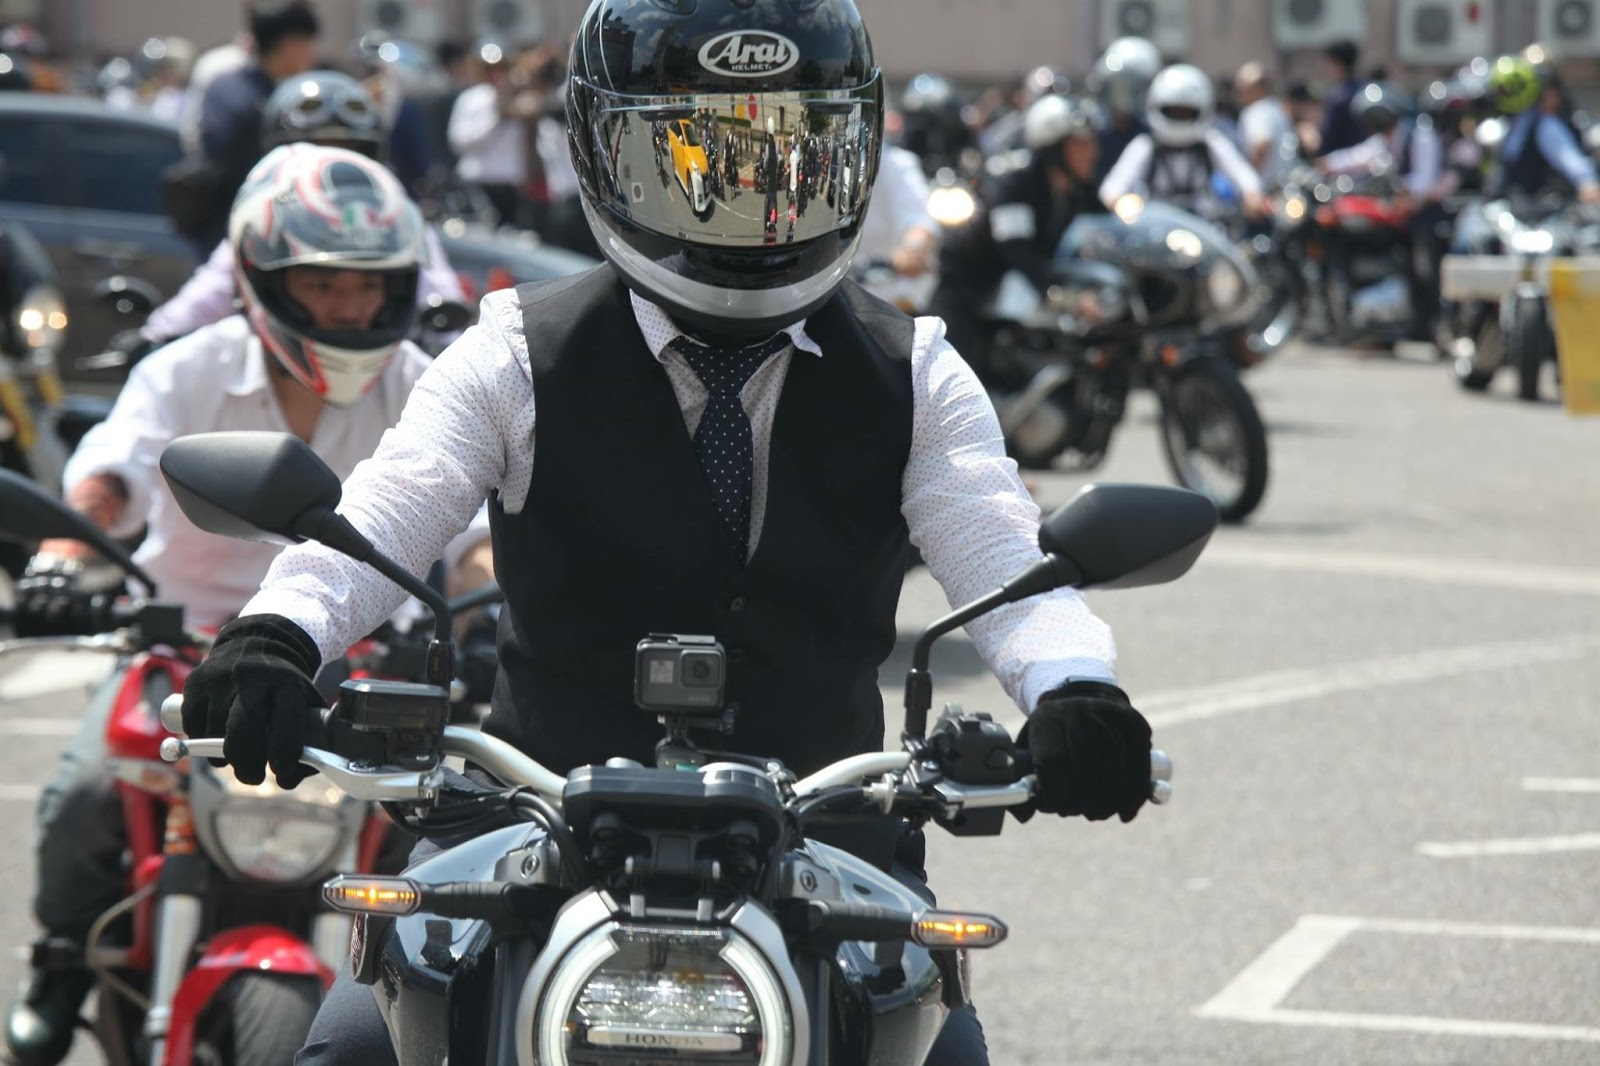helmet: (557, 18, 902, 286), (219, 157, 426, 366)
